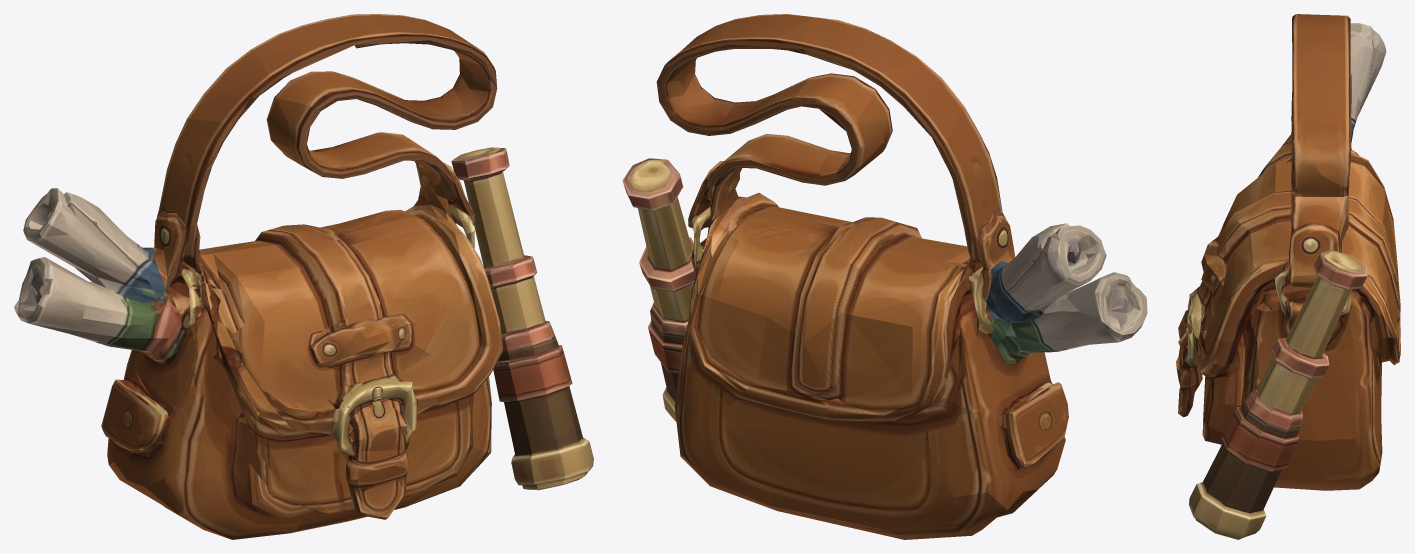
File: npc_acc_spyglass_satchel.glb
The picture shows the model from 3 angles, left to right: view 1: azimuth 30°, elevation 25°; view 2: azimuth 150°, elevation 25°; view 3: azimuth 270°, elevation 25°; orthographic projection. The views are drawn at different scales.
Visible parts, largest first — view 1: output_unwrapped; view 2: output_unwrapped; view 3: output_unwrapped.
Part boxes in pixels (left/top/right/bottom): output_unwrapped: left=14, top=14, right=593, bottom=539; output_unwrapped: left=622, top=14, right=1147, bottom=539; output_unwrapped: left=1176, top=14, right=1400, bottom=539.
Bounding box in the file's own units: 0.5223 × 0.45 × 0.2157.
1 material, 1 textured.
